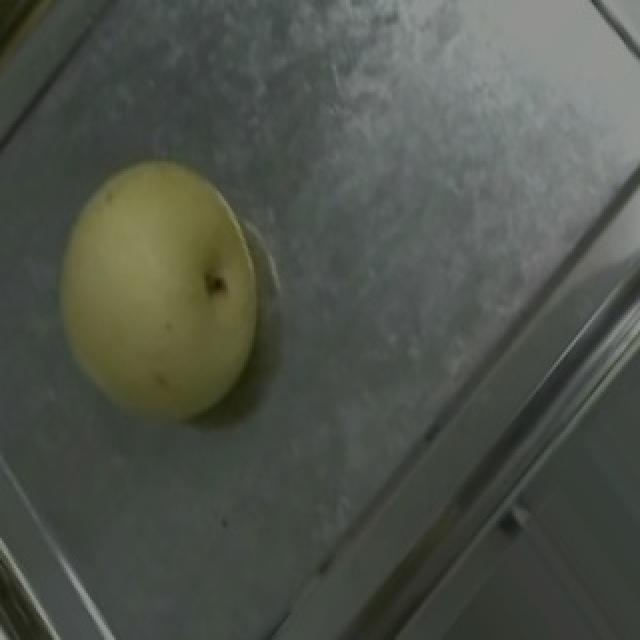Fruit: (8, 116, 312, 462)
